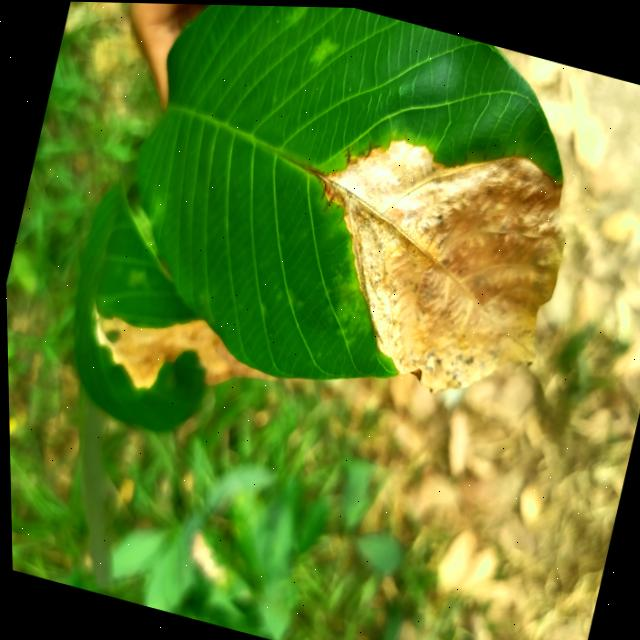Corynespora: (304, 163, 329, 183), (340, 142, 353, 163), (323, 190, 335, 209), (317, 177, 327, 199)
Leaf-Blight: (279, 104, 585, 417), (76, 289, 284, 421)
